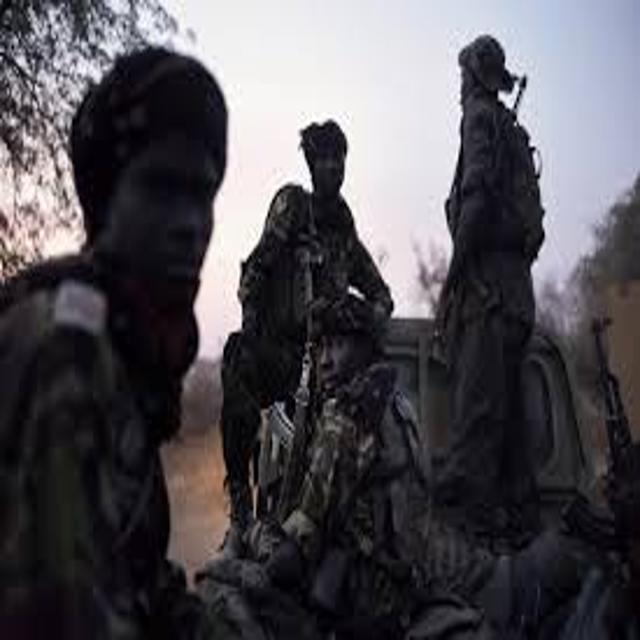poacher: (6, 33, 256, 639), (177, 104, 470, 586), (384, 22, 604, 553), (190, 277, 489, 640)
